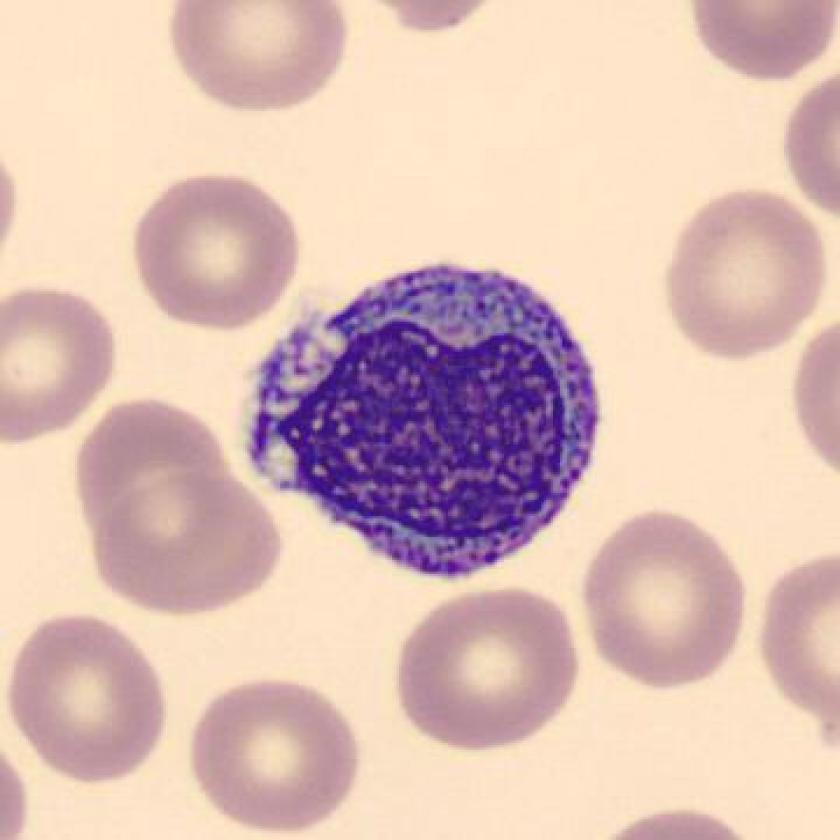monocyte: (230, 235, 622, 607)
